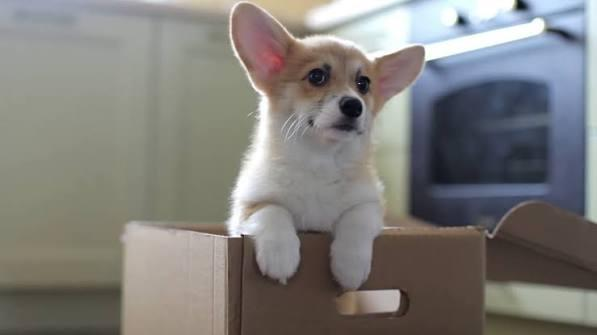puppy-dog: (226, 3, 427, 294)
